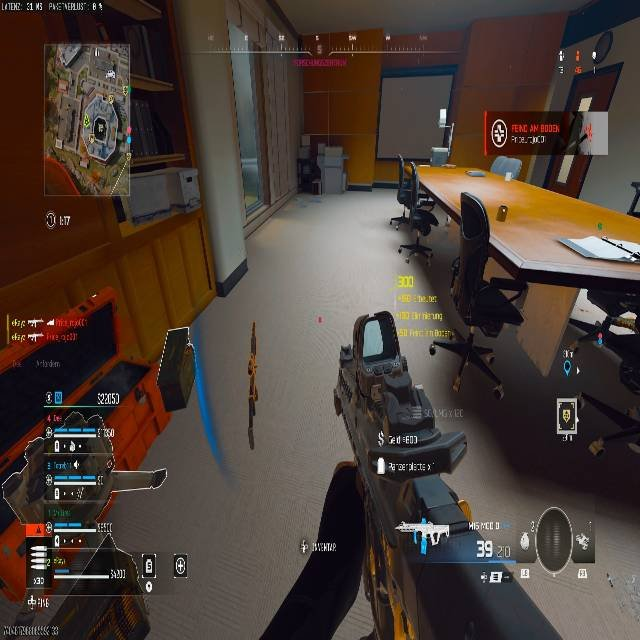head: (395, 165, 420, 202)
player: (0, 404, 150, 639), (392, 171, 526, 400), (294, 138, 323, 197)
